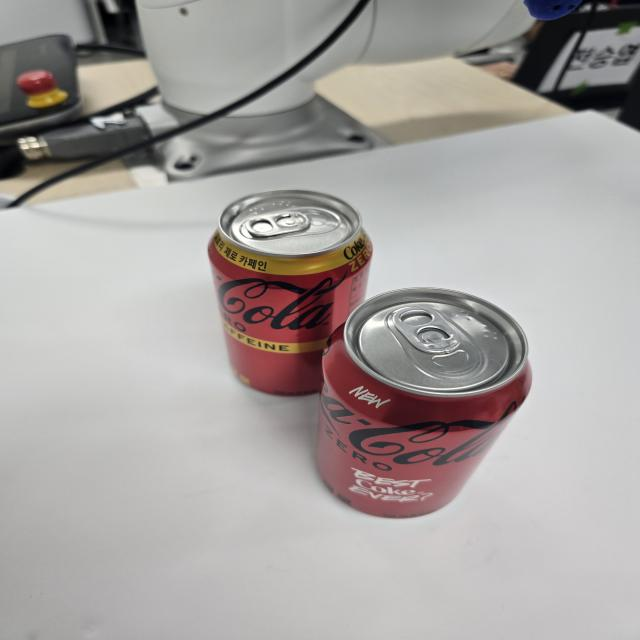can_coke_decaf: (211, 191, 373, 395)
can_coke_zero: (304, 291, 530, 521)
